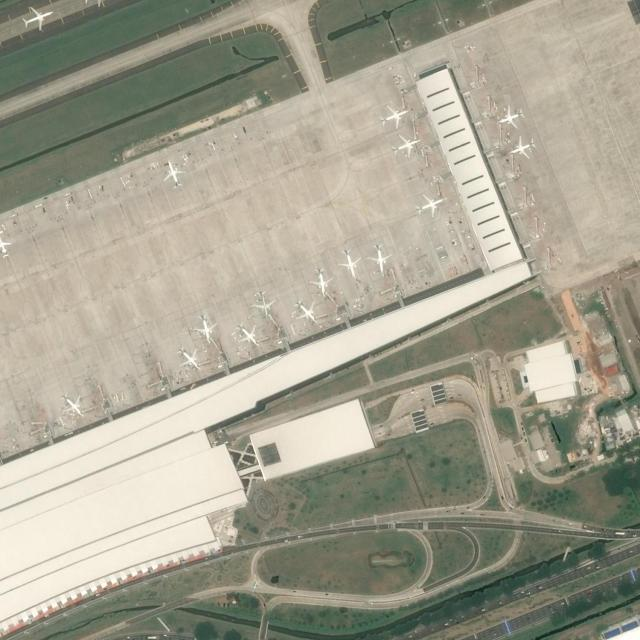Aircraft: (21, 5, 57, 30), (20, 5, 54, 30), (389, 133, 425, 155), (415, 192, 445, 217), (377, 103, 411, 125), (416, 193, 450, 215), (379, 104, 410, 128), (236, 324, 266, 348), (337, 249, 361, 279), (367, 244, 391, 274), (391, 133, 421, 157), (506, 136, 538, 158), (193, 314, 217, 343), (310, 267, 334, 296), (368, 245, 394, 271), (251, 290, 276, 317), (496, 105, 524, 129), (497, 105, 525, 129), (508, 135, 536, 159), (162, 159, 186, 187), (235, 322, 260, 347), (162, 160, 188, 184), (176, 346, 202, 370), (293, 299, 319, 323), (175, 348, 203, 370), (62, 392, 84, 420), (251, 294, 280, 314), (60, 392, 84, 416), (338, 252, 361, 276), (194, 315, 219, 337), (293, 299, 317, 321), (311, 270, 329, 298), (0, 231, 12, 259), (0, 233, 13, 255)
